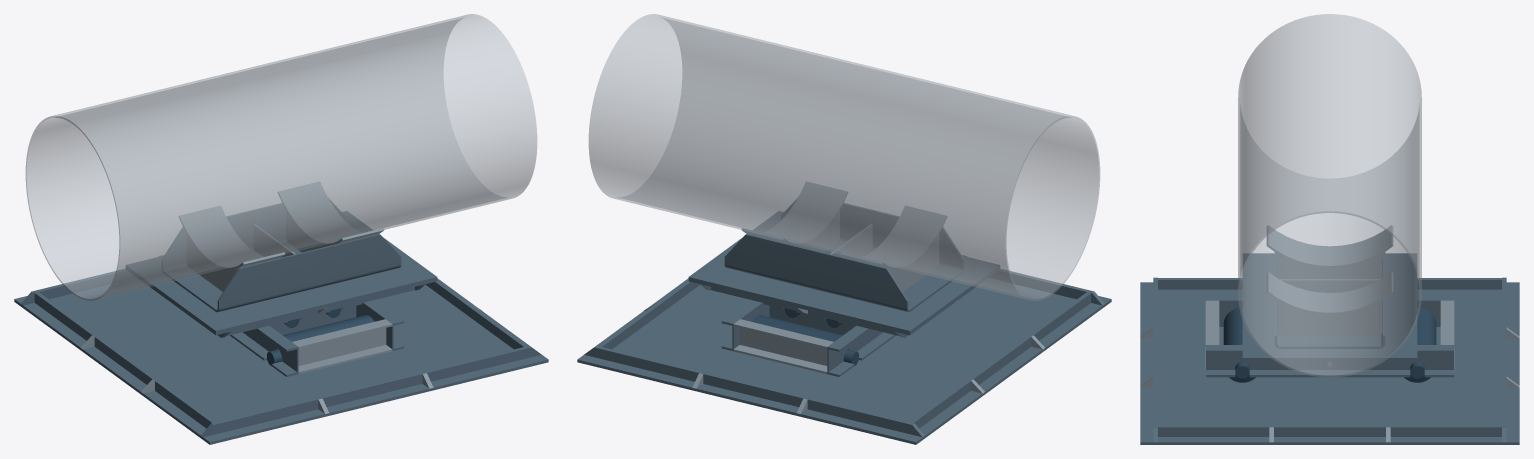
File: TS-628.00.000-17-opora-dn630-hod400.glb
The picture shows the model from 3 angles, left to right: view 1: azimuth 30°, elevation 25°; view 2: azimuth 150°, elevation 25°; view 3: azimuth 270°, elevation 25°; orthographic projection. The views are drawn at different scales.
Visible parts, largest first — view 1: truba, plita_niz_osnovanie_0, korpus_skoba_60, plita_verh_osnovanie_51, plita_niz_polosa2_7, karetka_rebro_shveller_15, korpus_podushka_66, korpus_podushka_67, plita_niz_polosa3_8, karetka_shveller_prodolnyj_13, plita_niz_polosa3_2, plita_niz_polosa2_1 (+6 smaller); view 2: truba, plita_niz_osnovanie_0, korpus_skoba_60, plita_verh_osnovanie_51, plita_niz_polosa2_1, karetka_rebro_shveller_18, korpus_podushka_66, korpus_podushka_67, plita_niz_polosa3_8, karetka_shveller_prodolnyj_13, plita_niz_polosa3_2, plita_niz_polosa2_7 (+6 smaller); view 3: truba, plita_niz_osnovanie_0, plita_verh_osnovanie_51, karetka_shveller_prodolnyj_16, plita_niz_polosa3_2, korpus_podushka_67, korpus_podushka_66, korpus_rebro3_64, plita_niz_polosa3_8, korpus_skoba_60, korpus_rebro3_62, karetka_shveller_prodolnyj_13 (+6 smaller).
Part boxes in pixels (x1,y1,x2,y2): truba: (25,14,537,300); plita_niz_osnovanie_0: (14,278,548,444); korpus_skoba_60: (162,199,401,312); plita_verh_osnovanie_51: (126,211,437,335); plita_niz_polosa2_7: (201,346,541,437); karetka_rebro_shveller_15: (292,319,392,373); korpus_podushka_66: (179,206,285,270); korpus_podushka_67: (278,182,384,245); plita_niz_polosa3_8: (34,292,215,428); karetka_shveller_prodolnyj_13: (159,255,298,376); plita_niz_polosa3_2: (425,279,527,349); plita_niz_polosa2_1: (21,269,136,305); truba: (588,14,1100,300); plita_niz_osnovanie_0: (577,278,1111,444); korpus_skoba_60: (724,199,963,312); plita_verh_osnovanie_51: (688,211,999,335); plita_niz_polosa2_1: (584,346,924,437); karetka_rebro_shveller_18: (733,319,833,373); korpus_podushka_66: (840,206,946,270); korpus_podushka_67: (741,182,847,245); plita_niz_polosa3_8: (910,292,1091,428); karetka_shveller_prodolnyj_13: (827,255,966,376); plita_niz_polosa3_2: (598,279,700,349); plita_niz_polosa2_7: (989,269,1104,305); truba: (1238,14,1421,377); plita_niz_osnovanie_0: (1140,282,1519,444); plita_verh_osnovanie_51: (1242,253,1417,362); karetka_shveller_prodolnyj_16: (1206,345,1453,377); plita_niz_polosa3_2: (1158,425,1501,436); korpus_podushka_67: (1266,272,1393,314); korpus_podushka_66: (1266,225,1393,267); korpus_rebro3_64: (1277,300,1382,335); plita_niz_polosa3_8: (1158,278,1501,289); korpus_skoba_60: (1274,252,1385,348); korpus_rebro3_62: (1277,254,1382,279); karetka_shveller_prodolnyj_13: (1206,295,1453,326).
Size of the model in its own units: 1600 by 955 by 1302.
